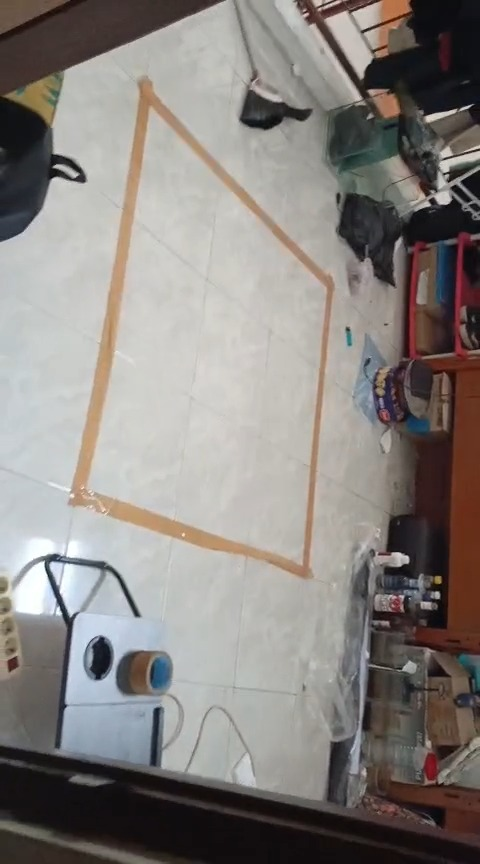floor marking: (70, 77, 332, 577)
